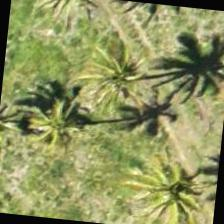Kelapa_Sawit: (14, 72, 113, 172), (60, 11, 159, 110), (127, 150, 219, 223)
